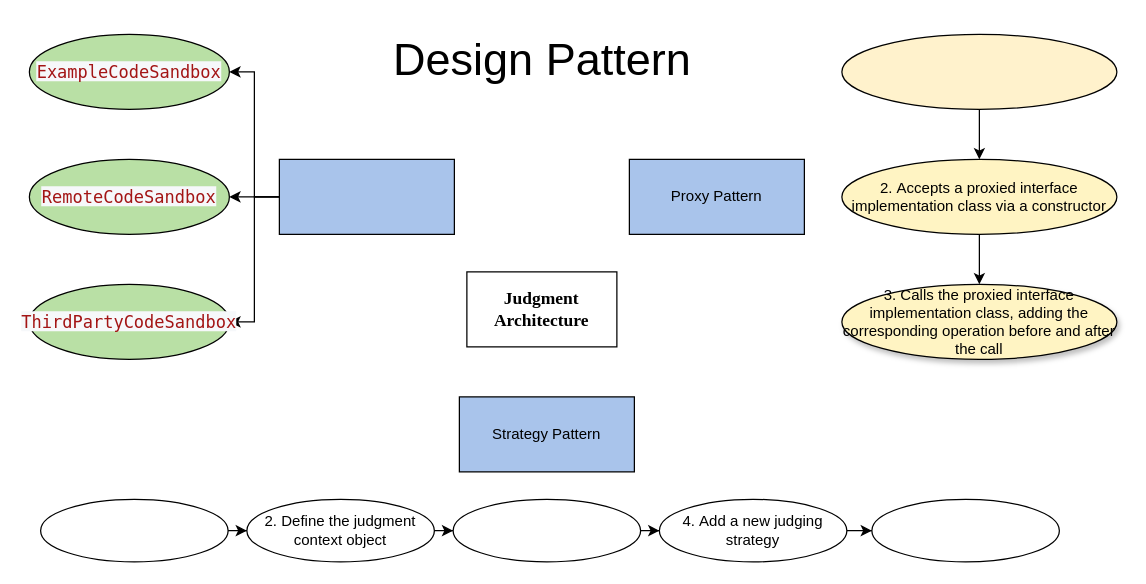
The diagram is 1146 pixels wide and 584 high, and some of its shapes have lost their labels. The centre of each missing label's shape, as x and y in pixels:
"1. Define the judgment strategy interface" goes at point (133, 530).
"1. Implements the interface to be proxied" goes at point (979, 71).
"3. Implement the default decision strategy" goes at point (546, 530).
"5. Define the JudgeManager" goes at point (965, 530).
"Static Factory Pattern" goes at point (366, 196).
